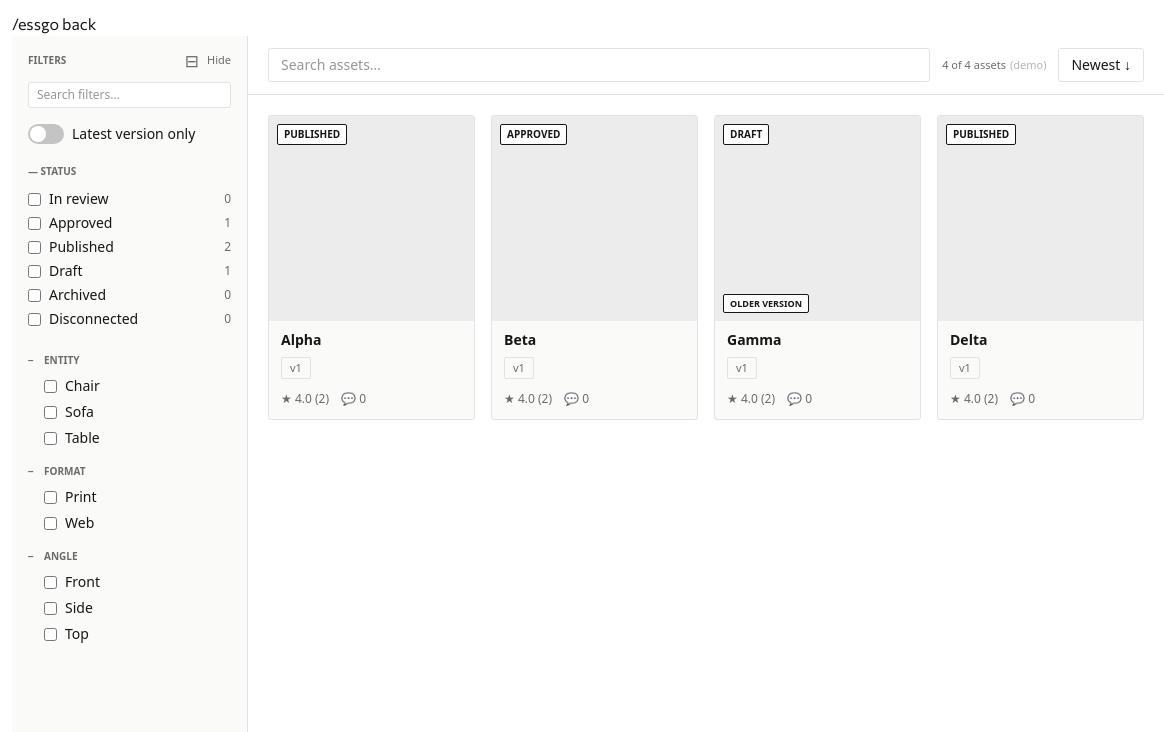
Test: interaction writes the URL › a status checkbox lands in the query string
Click the checkbox labelled "Approved 1" at (34, 223), box [28, 216, 41, 230]
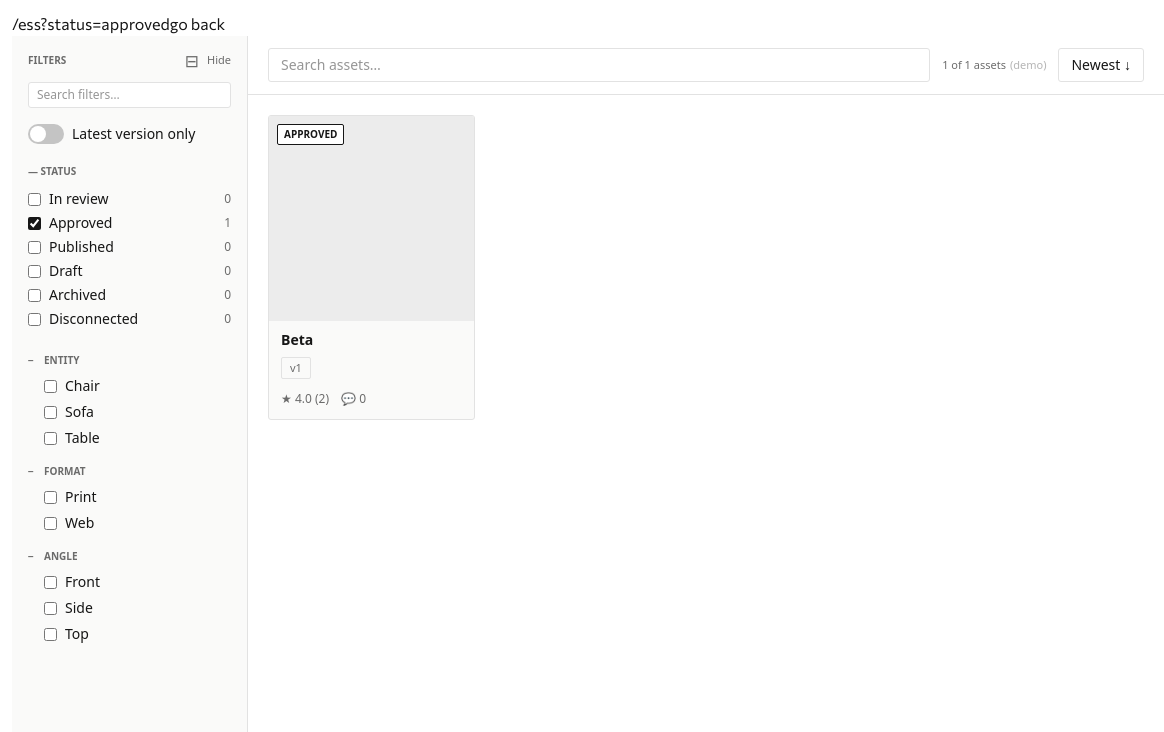
Check: the text with test id "url" reads "/ess?status=approved", box [12, 14, 170, 33]
